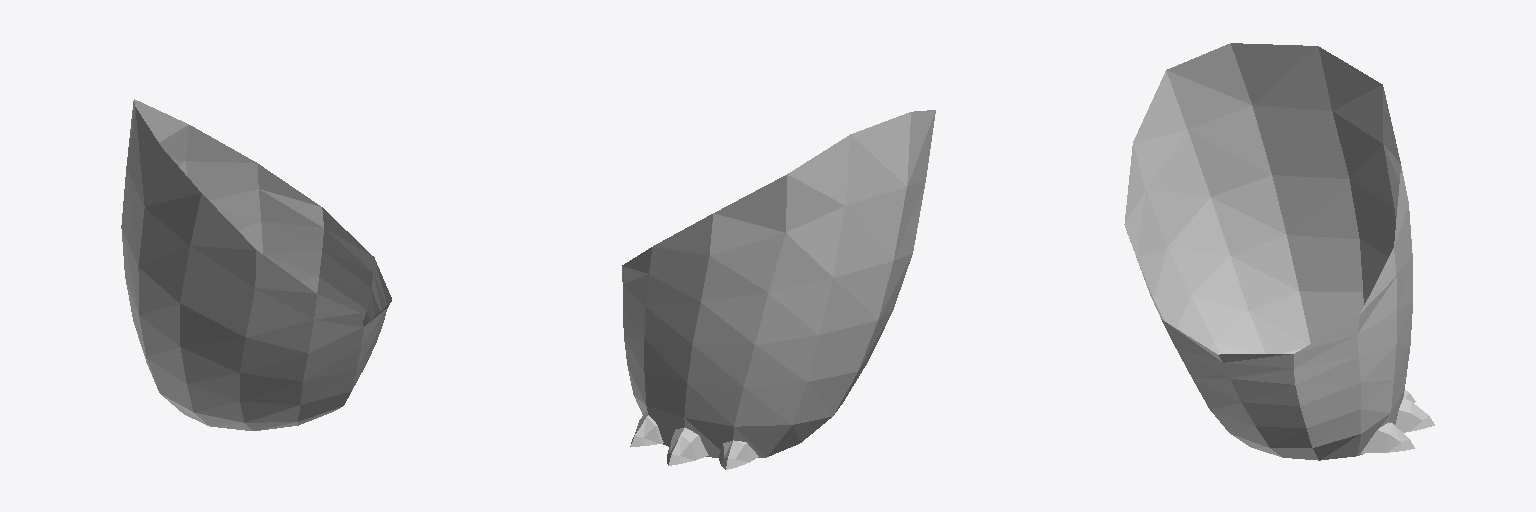
Rendered from izqDelanBul.obj.
3 views of the same model, side by side, from view 1: azimuth 30°, elevation 25°; view 2: azimuth 150°, elevation 25°; view 3: azimuth 270°, elevation 25° (orthographic).
Visible parts, largest first — view 1: LArm, LShoulder, LForeArm, LHand; view 2: LArm, LForeArm, LShoulder, LFinger; view 3: LArm, LForeArm, LShoulder, LFinger, LHand, Bulbasaur.001_Material__10.
Part boxes in pixels (bbox=[...]): LArm: bbox=[121, 160, 387, 381]; LShoulder: bbox=[126, 99, 391, 326]; LForeArm: bbox=[125, 254, 375, 411]; LHand: bbox=[160, 384, 351, 430]; LArm: bbox=[623, 179, 925, 344]; LForeArm: bbox=[624, 311, 892, 425]; LShoulder: bbox=[622, 110, 935, 283]; LFinger: bbox=[628, 368, 799, 469]; LArm: bbox=[1137, 105, 1412, 405]; LForeArm: bbox=[1177, 235, 1412, 447]; LShoulder: bbox=[1124, 43, 1408, 368]; LFinger: bbox=[1320, 380, 1434, 460]; LHand: bbox=[1209, 311, 1359, 460]; Bulbasaur.001_Material__10: bbox=[1251, 428, 1318, 460].
Bounding box in the file's own units: 4.58 × 5.61 × 4.93.